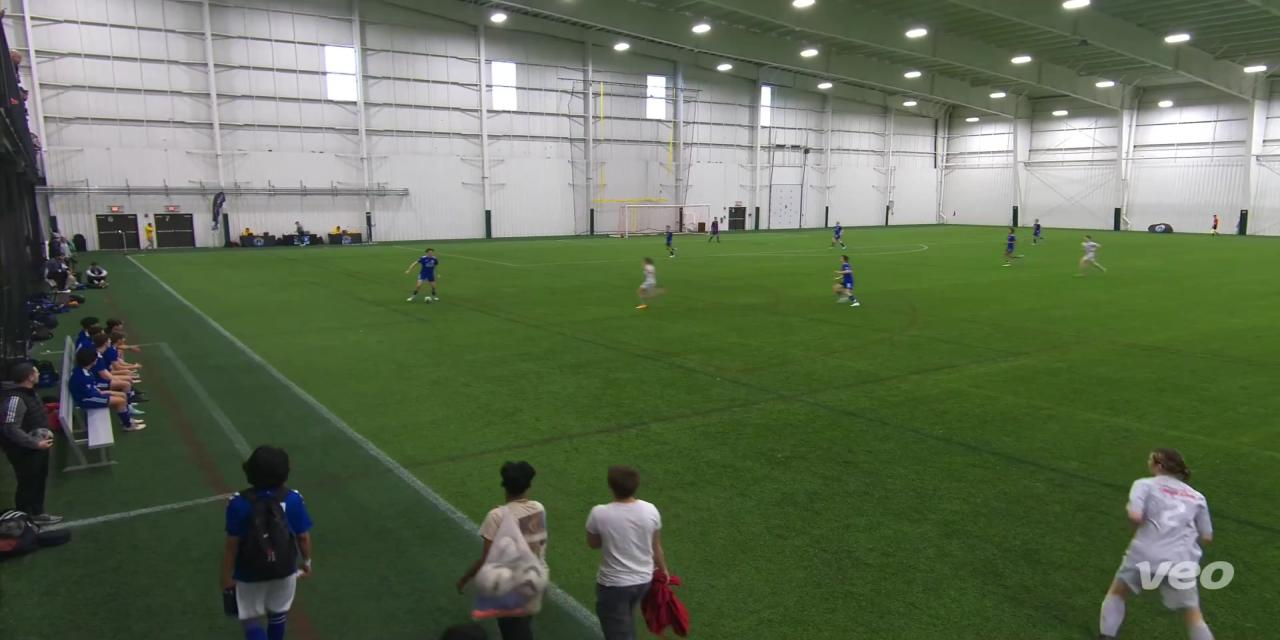goal: (607, 200, 719, 240)
sports ball: (422, 290, 436, 306)
